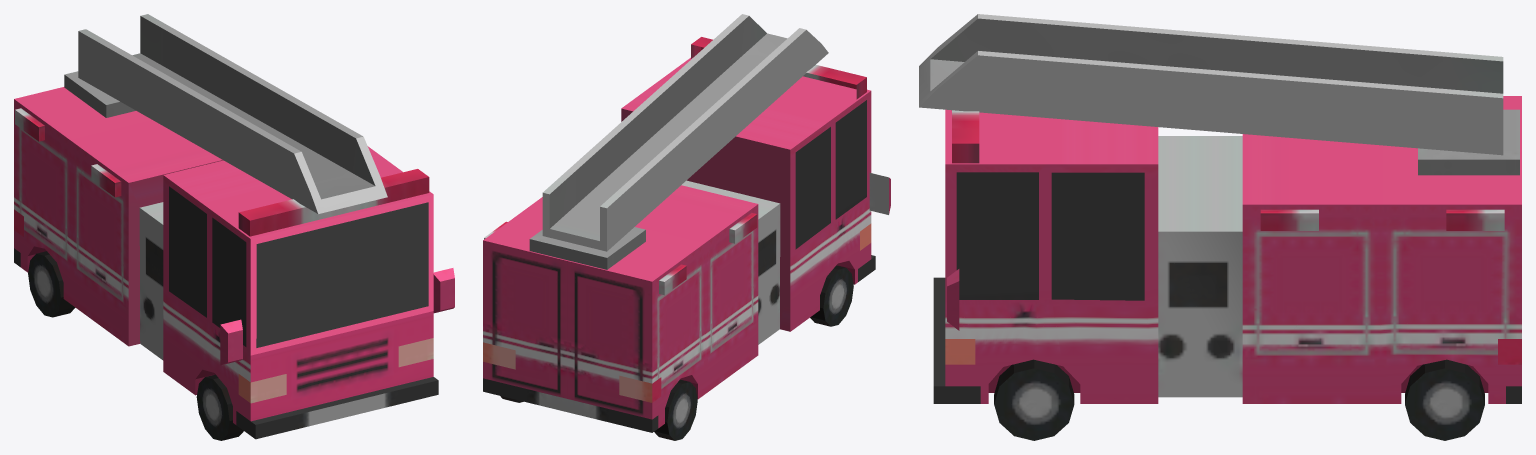
File: fire_truck.fbx
3 views of the same model, side by side, from view 1: azimuth 30°, elevation 25°; view 2: azimuth 150°, elevation 25°; view 3: azimuth 270°, elevation 25° (orthographic). The views are drawn at different scales.
Visible parts, largest first — view 1: fire_truck; view 2: fire_truck; view 3: fire_truck.
Boxes of the visible parts, x1=… form: fire_truck: x1=14, y1=14, x2=454, y2=440; fire_truck: x1=483, y1=14, x2=890, y2=440; fire_truck: x1=919, y1=14, x2=1521, y2=440.
Size of the model in its own units: 4.12 by 4.87 by 7.58.
